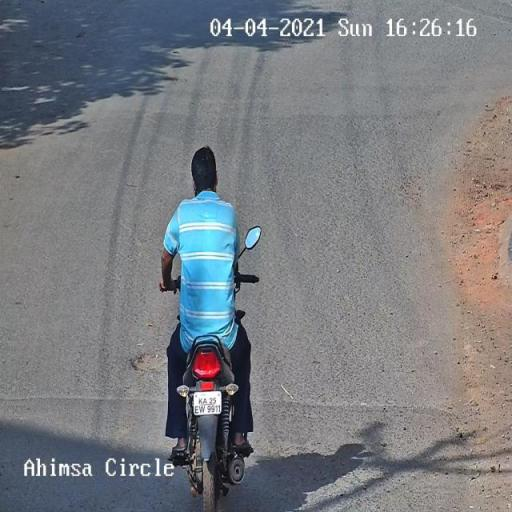numberplate: (194, 390, 222, 416)
using mobile: (191, 179, 199, 200)
